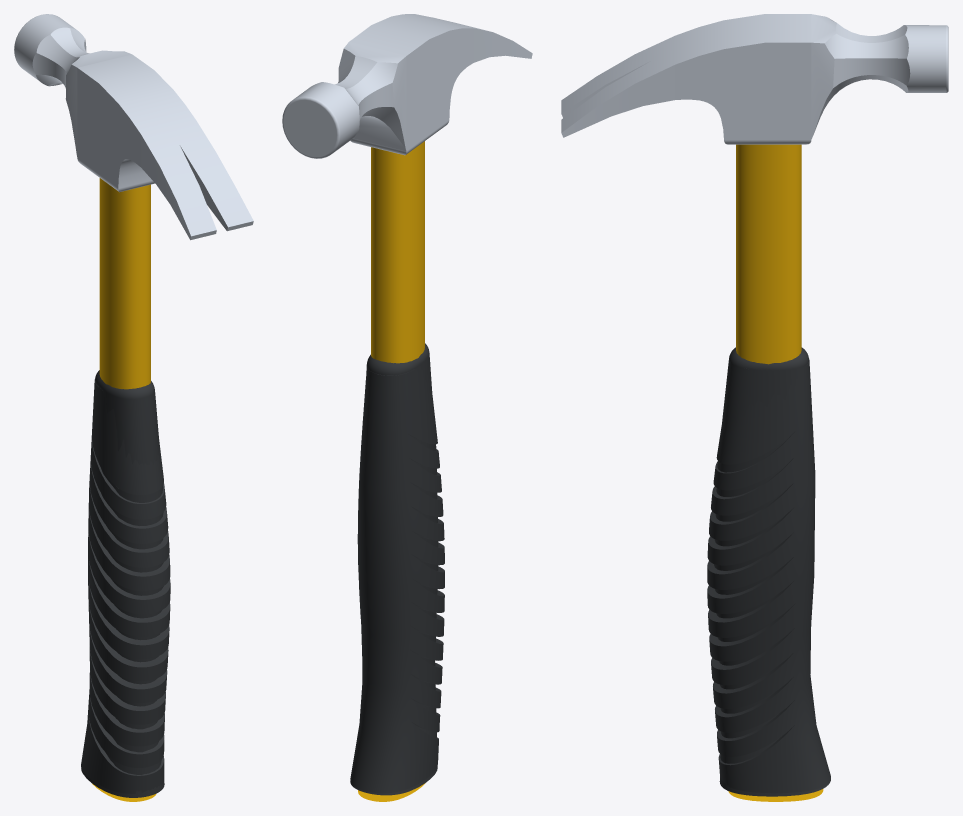
The model's file is Hammer.obj.
3 renders of one model, left to right at view 1: azimuth 30°, elevation 25°; view 2: azimuth 150°, elevation 25°; view 3: azimuth 270°, elevation 25°, orthographic. The views are drawn at different scales.
Visible parts, largest first — view 1: temp.x_b-1, temp.x_b-4, temp.x_b, temp.x_b-3; view 2: temp.x_b-1, temp.x_b-4, temp.x_b, temp.x_b-3; view 3: temp.x_b-1, temp.x_b-4, temp.x_b, temp.x_b-3.
Part boxes in pixels (x1,y1,x2,y2): temp.x_b-1: (81,378,170,793); temp.x_b-4: (14,14,253,240); temp.x_b: (99,178,150,389); temp.x_b-3: (81,370,164,797); temp.x_b-1: (350,366,444,793); temp.x_b-4: (282,14,532,158); temp.x_b: (371,141,424,363); temp.x_b-3: (350,343,438,795); temp.x_b-1: (707,359,830,793); temp.x_b-4: (561,14,948,144); temp.x_b: (736,144,801,364); temp.x_b-3: (714,347,830,796).
Size of the model in its own units: 0.2821 by 3.06 by 1.41.
